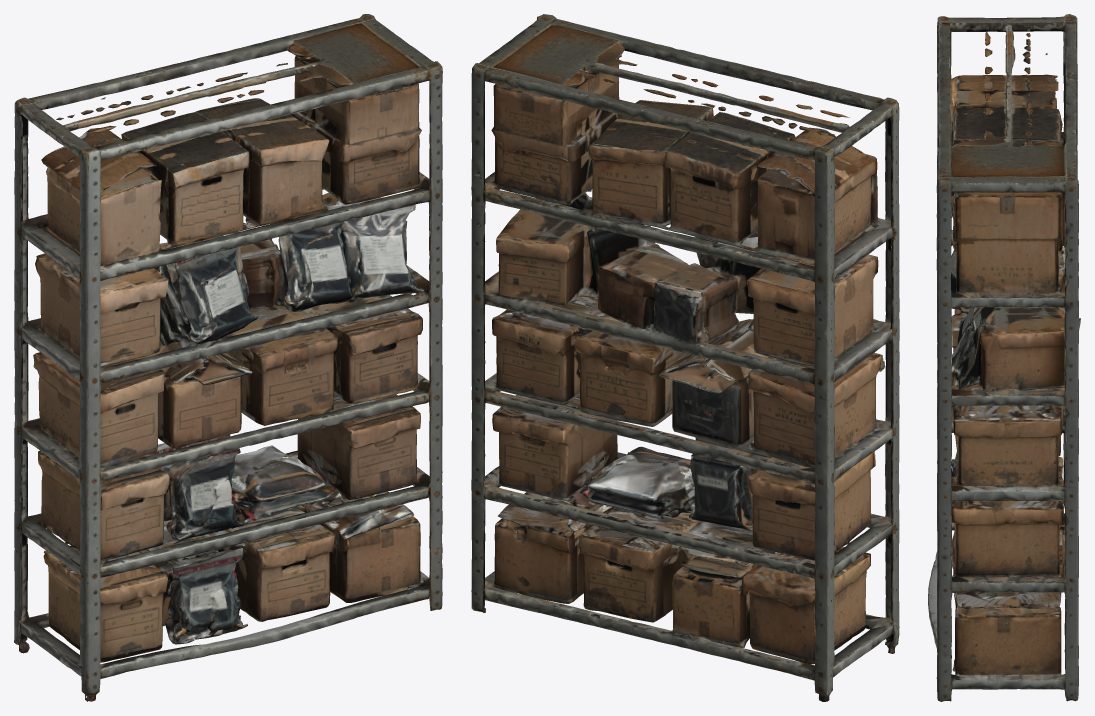
Rendered from EvidenceShelf.glb.
3 renders of one model, left to right at view 1: azimuth 30°, elevation 25°; view 2: azimuth 150°, elevation 25°; view 3: azimuth 270°, elevation 25°, orthographic. The views are drawn at different scales.
Visible parts, largest first — view 1: texture_mapping; view 2: texture_mapping; view 3: texture_mapping.
Part boxes in pixels (x1=…): texture_mapping: x1=14, y1=14, x2=442, y2=701; texture_mapping: x1=471, y1=14, x2=899, y2=701; texture_mapping: x1=928, y1=14, x2=1080, y2=701.
Size of the model in its own units: 0.6801 by 1 by 0.262.
Materials: 1 (1 with a texture image).
